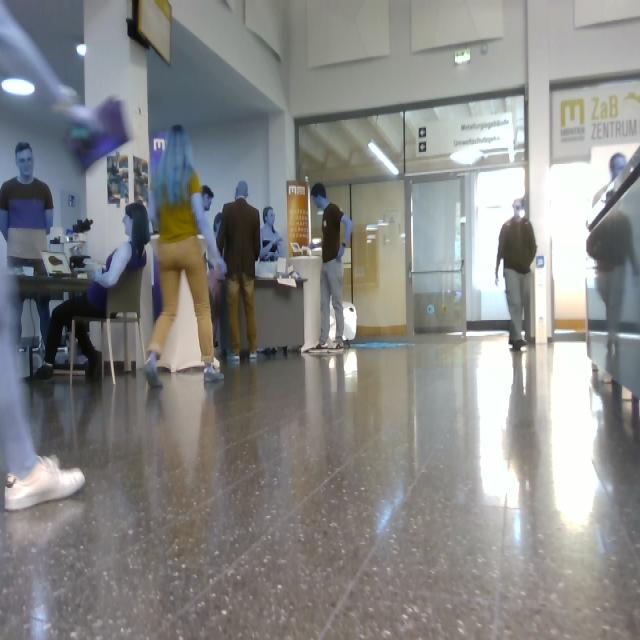desk: (256, 278, 306, 350)
door: (297, 92, 525, 337)
light bulb: (369, 141, 400, 176), (1, 78, 35, 97), (77, 44, 86, 57)
person: (146, 126, 227, 386), (1, 265, 85, 512), (37, 202, 151, 381), (218, 182, 260, 360), (1, 144, 54, 274), (312, 184, 353, 349), (496, 198, 537, 350), (261, 206, 282, 261), (36, 296, 50, 349)
staircase: (583, 148, 640, 400)
tiled floor: (1, 337, 640, 640)
